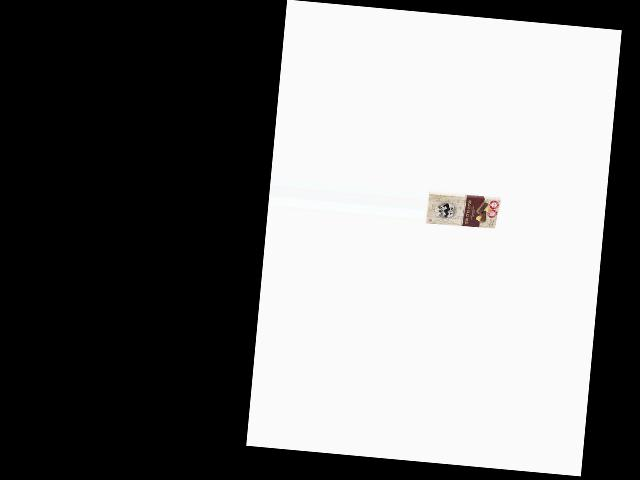chocolate: (425, 185, 502, 231)
